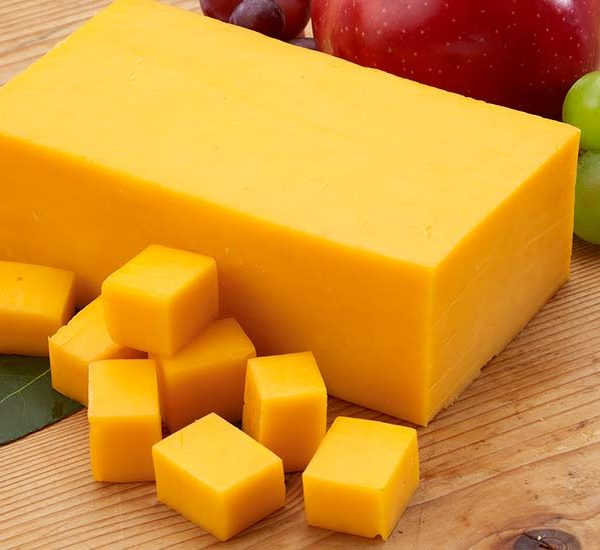cheese: (10, 15, 570, 424), (70, 312, 428, 517), (100, 244, 241, 345)
